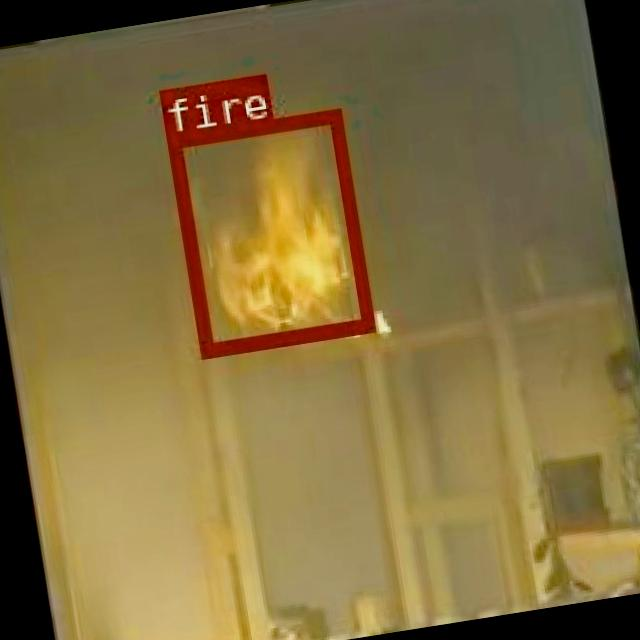fire: (166, 109, 370, 354)
